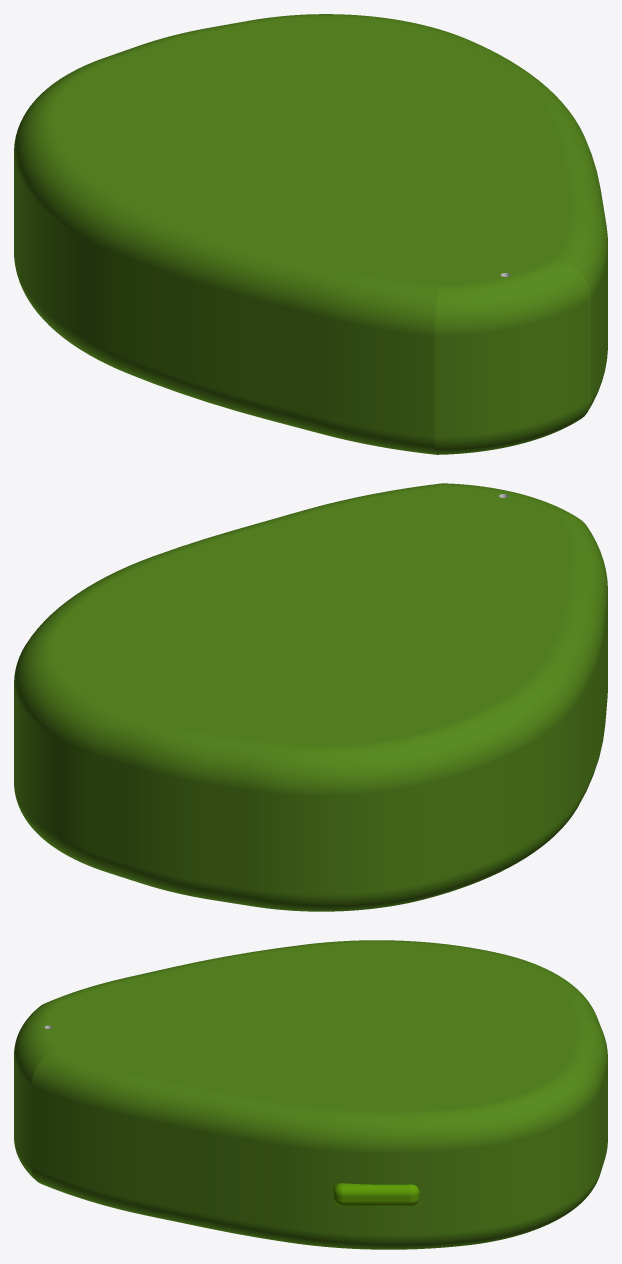
The model's file is Part Studio 1.glb.
3 renders of one model, top to bottom at view 1: azimuth 30°, elevation 25°; view 2: azimuth 150°, elevation 25°; view 3: azimuth 270°, elevation 25°, orthographic. The views are drawn at different scales.
Parts seen in each view (by area): view 1: Part 1; view 2: Part 1; view 3: Part 1.
Part boxes in pixels (box(x1,y1,x2,y2)): Part 1: box(14, 14, 607, 454); Part 1: box(14, 483, 607, 911); Part 1: box(14, 940, 607, 1249).
Bounding box in the file's own units: 0.0455 × 0.0186 × 0.0574.
